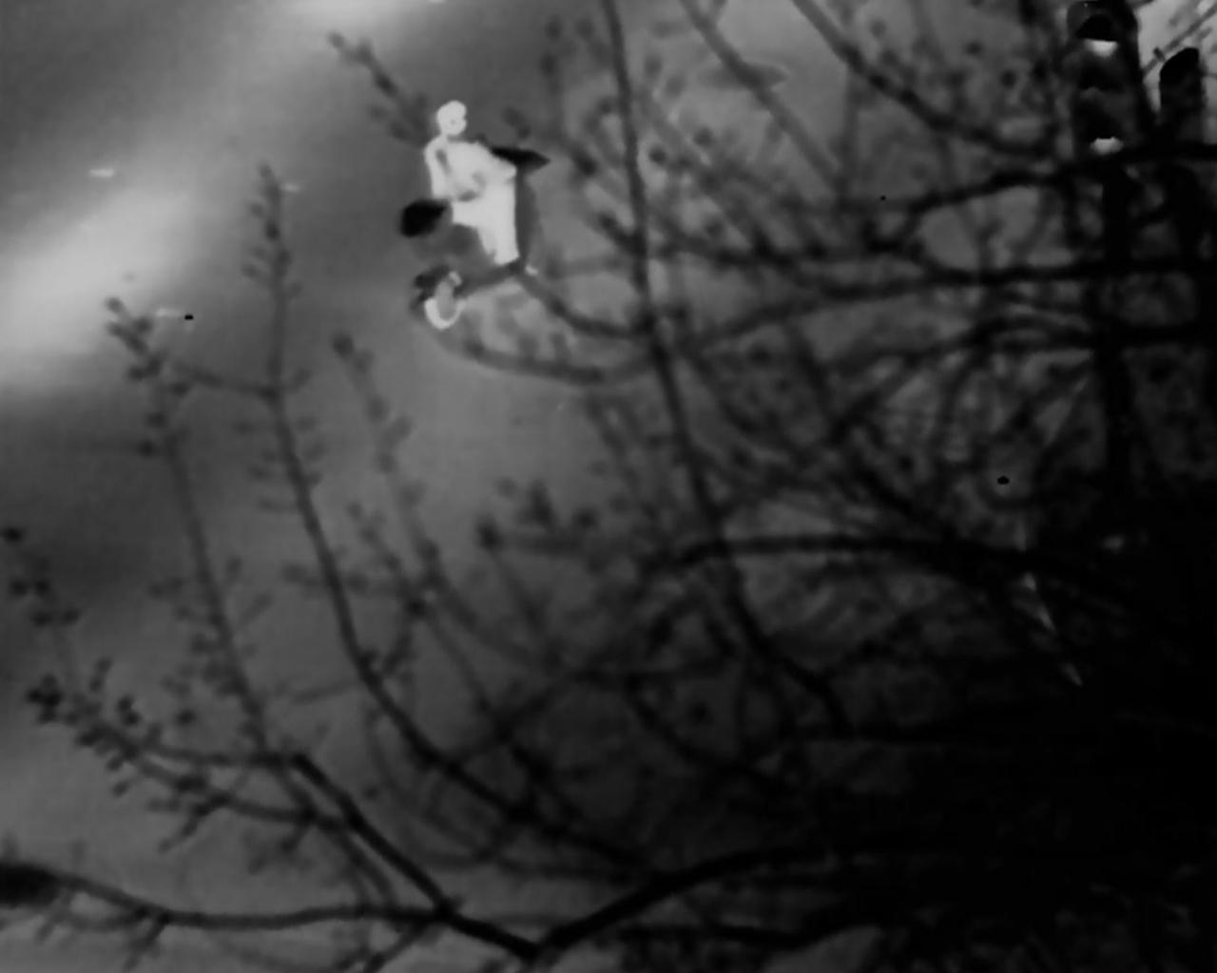person: (416, 103, 534, 283)
